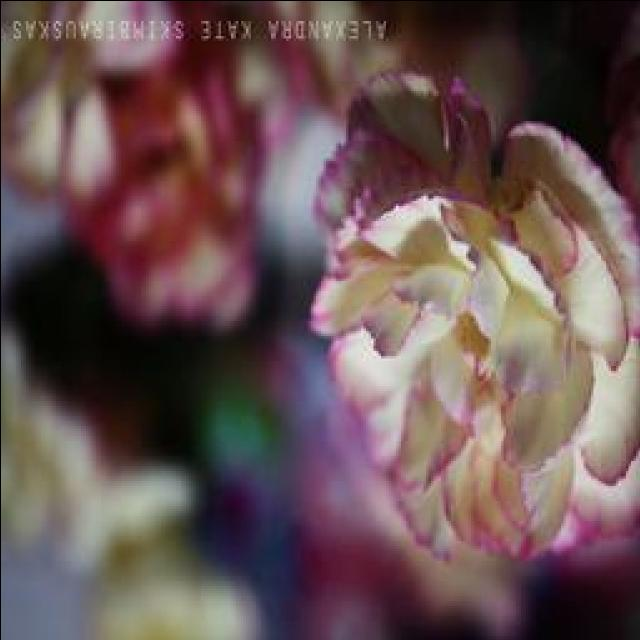carnation: (302, 72, 640, 586)
